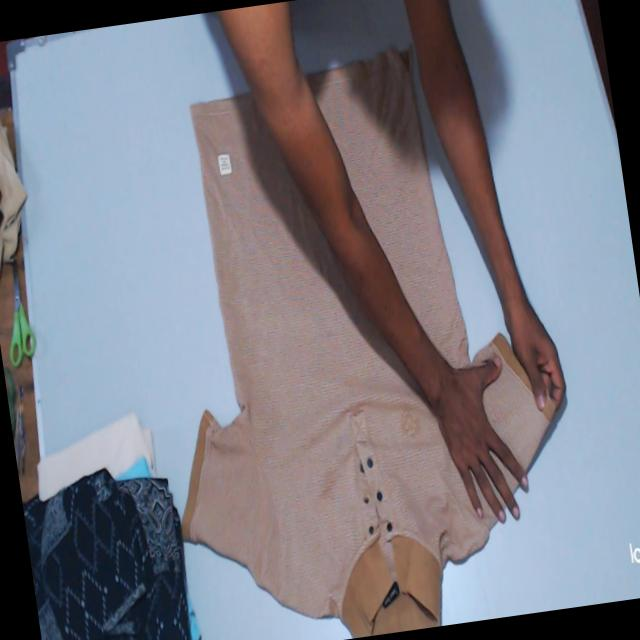new-garment: (183, 93, 497, 637), (307, 48, 471, 368), (474, 336, 554, 468)
